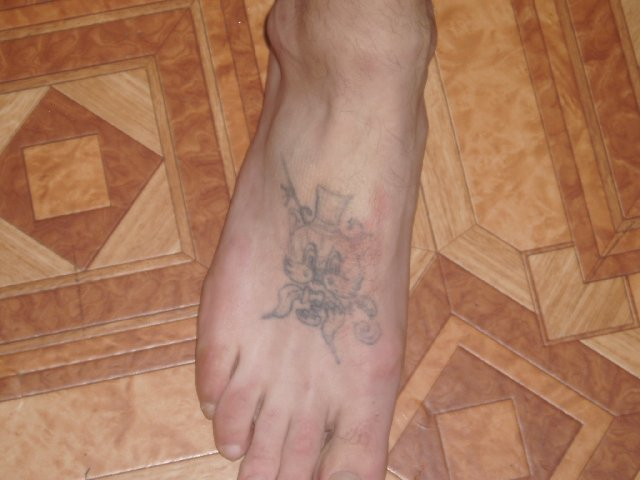tatu8_kot: (260, 150, 394, 370)
